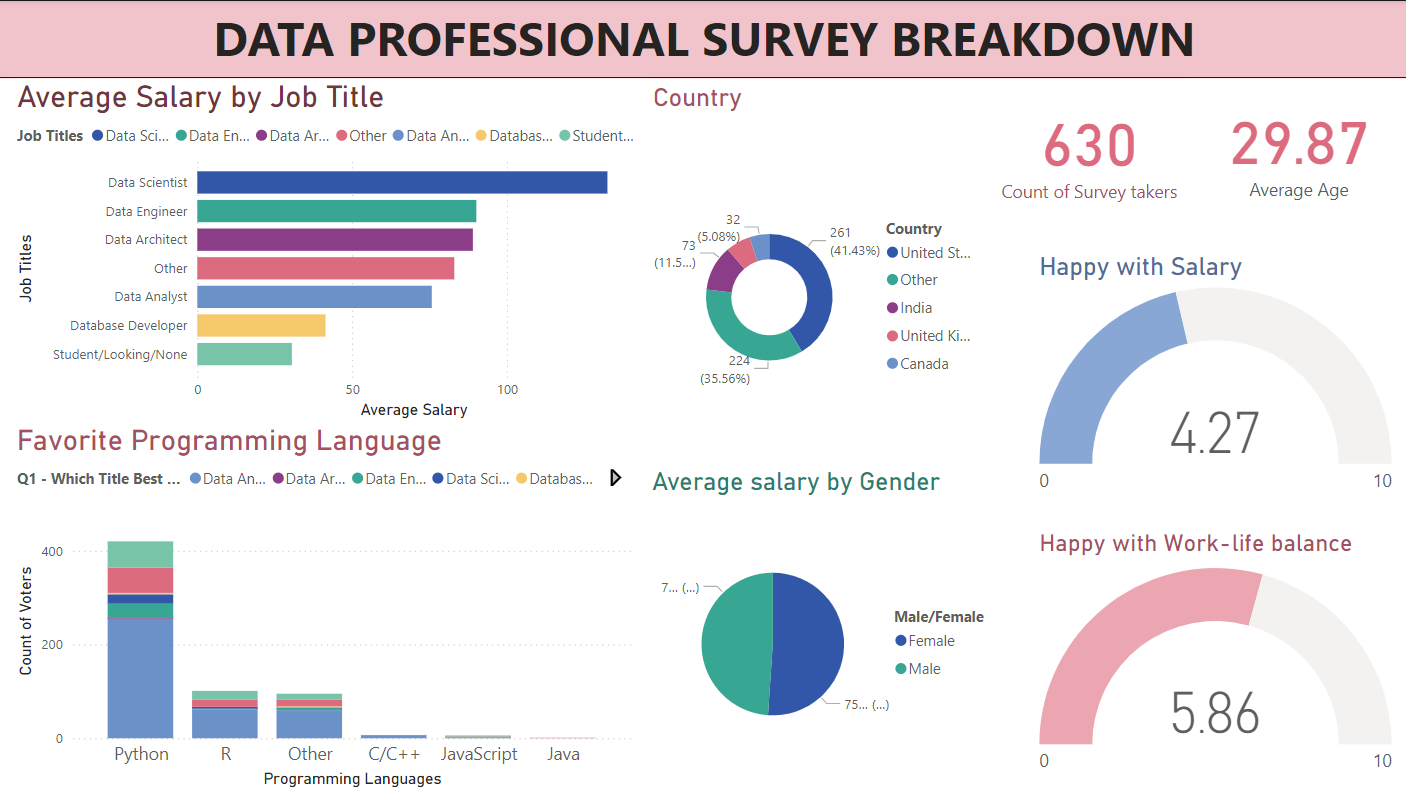

This screenshot's page, from the dashboard's own definition file:
{"tool":"powerbi","page":{"name":"Page 1","canvas":[1280,720],"ordinal":0},"visuals":[{"type":"textbox","box":[0,0,1280.3,71.1],"z":0},{"type":"card","fields":{"Values":["CountNonNull(Data Professional Survey.Unique ID)"]},"box":[900.4,74.4,177.8,121.2],"z":2},{"type":"card","fields":{"Values":["Avg(Data Professional Survey.Q10 - Current Age)"]},"box":[1078.3,71.1,202.1,124.5],"z":3},{"type":"barChart","title":"Average Salary by Job Title ","fields":{"Category":["Data Professional Survey.Q1 - Which Title Best Fits your Current Role?.1"],"Y":["Avg(Data Professional Survey.Avg salary)"],"Series":["Data Professional Survey.Q1 - Which Title Best Fits your Current Role?.1"]},"box":[11.3,71.1,577.1,313.6],"z":4},{"type":"columnChart","title":"Favorite Programming Language","fields":{"Category":["Data Professional Survey.Q5 - Favorite Programming Language.1"],"Y":["CountNonNull(Data Professional Survey.Unique ID)"],"Series":["Data Professional Survey.Q1 - Which Title Best Fits your Current Role?.1"]},"box":[11.3,383.1,567.4,336.2],"z":5},{"type":"donutChart","title":"Country","fields":{"Category":["Data Professional Survey.Q11 - Which Country do you live in?.1"],"Y":["CountNonNull(Data Professional Survey.Q11 - Which Country do you live in?.1)"]},"box":[588.4,74.4,312,363.7],"z":6},{"type":"gauge","title":"Happy with Work-life balance","fields":{"Y":["Avg(Data Professional Survey.Q6 - How Happy are you in your Current Position with the following? (Coworkers))"],"MaxValue":["Max(Data Professional Survey.Q6 - How Happy are you in your Current Position with the following? (Coworkers))"],"MinValue":["Min(Data Professional Survey.Q6 - How Happy are you in your Current Position with the following? (Learning New Things))"]},"box":[939.2,480.1,329.8,239.3],"z":7},{"type":"gauge","title":"Happy with Salary","fields":{"Y":["Avg(Data Professional Survey.Q6 - How Happy are you in your Current Position with the following? (Salary))"],"MinValue":["Min(Data Professional Survey.Q6 - How Happy are you in your Current Position with the following? (Salary))"],"MaxValue":["Max(Data Professional Survey.Q6 - How Happy are you in your Current Position with the following? (Salary))"]},"box":[939.2,227.9,329.8,231.2],"z":8},{"type":"pieChart","title":"Average salary by Gender","fields":{"Category":["Data Professional Survey.Q9 - Male/Female?"],"Y":["Avg(Data Professional Survey.Avg salary)"]},"box":[587.9,422.5,328.6,296.6],"z":9}]}

Visuals, with their boxes in screenshot pixels (x1, y1, x2, y2), scaled from the page's 1280x720 canvas onto the 1406x790 screenshot:
textbox: box(0, 0, 1405, 78)
card - CountNonNull(Data Professional Survey.Unique ID): box(989, 82, 1184, 215)
card - Avg(Data Professional Survey.Q10 - Current Age): box(1184, 78, 1405, 215)
"Average Salary by Job Title " barChart: box(12, 78, 646, 422)
"Favorite Programming Language" columnChart: box(12, 420, 636, 789)
"Country" donutChart: box(646, 82, 989, 481)
"Happy with Work-life balance" gauge: box(1032, 527, 1394, 789)
"Happy with Salary" gauge: box(1032, 250, 1394, 504)
"Average salary by Gender" pieChart: box(646, 464, 1007, 789)
